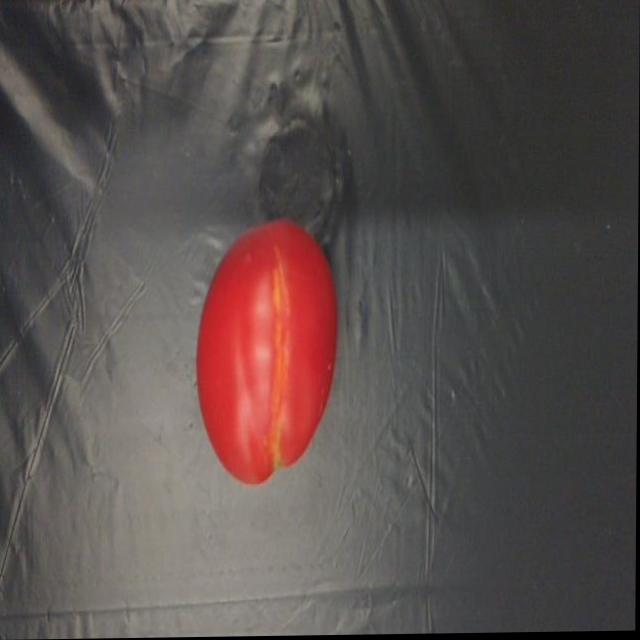kirmizi: (193, 202, 345, 500)
